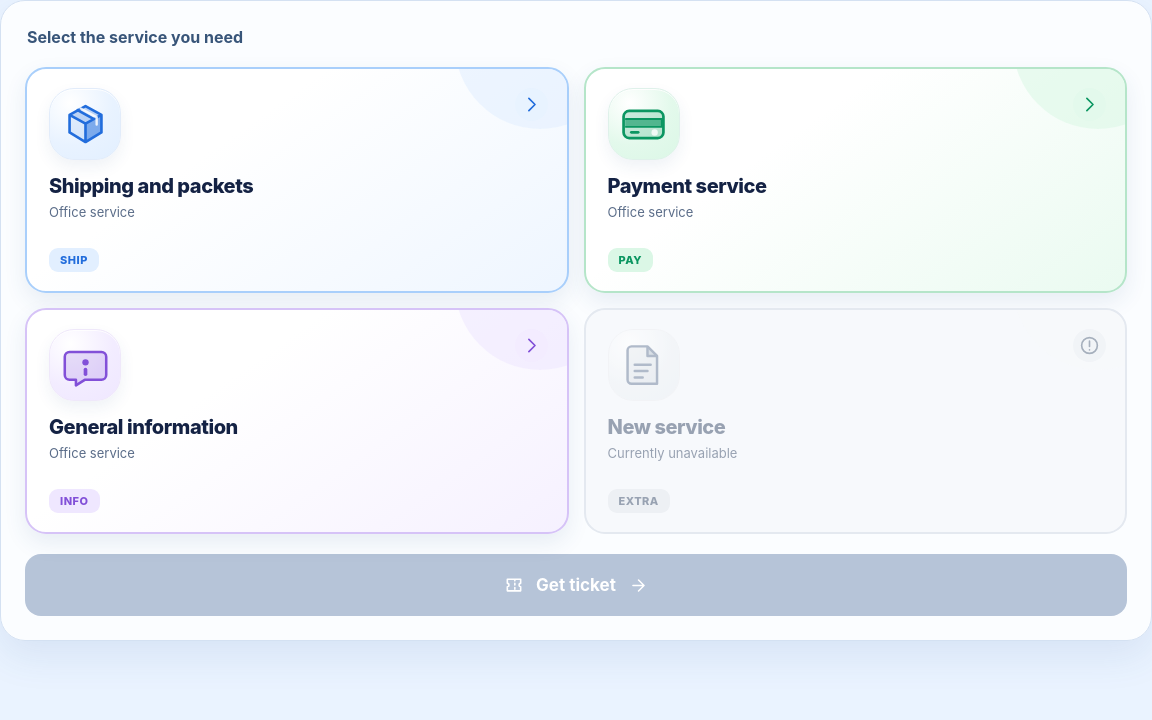
Scenario: ServiceSelector › selecting a service › marks the clicked card as selected and enables the button
Step 1. Click the radio button labelled "payment service Office service PAY" → (644, 124), box [584,67,1127,293]
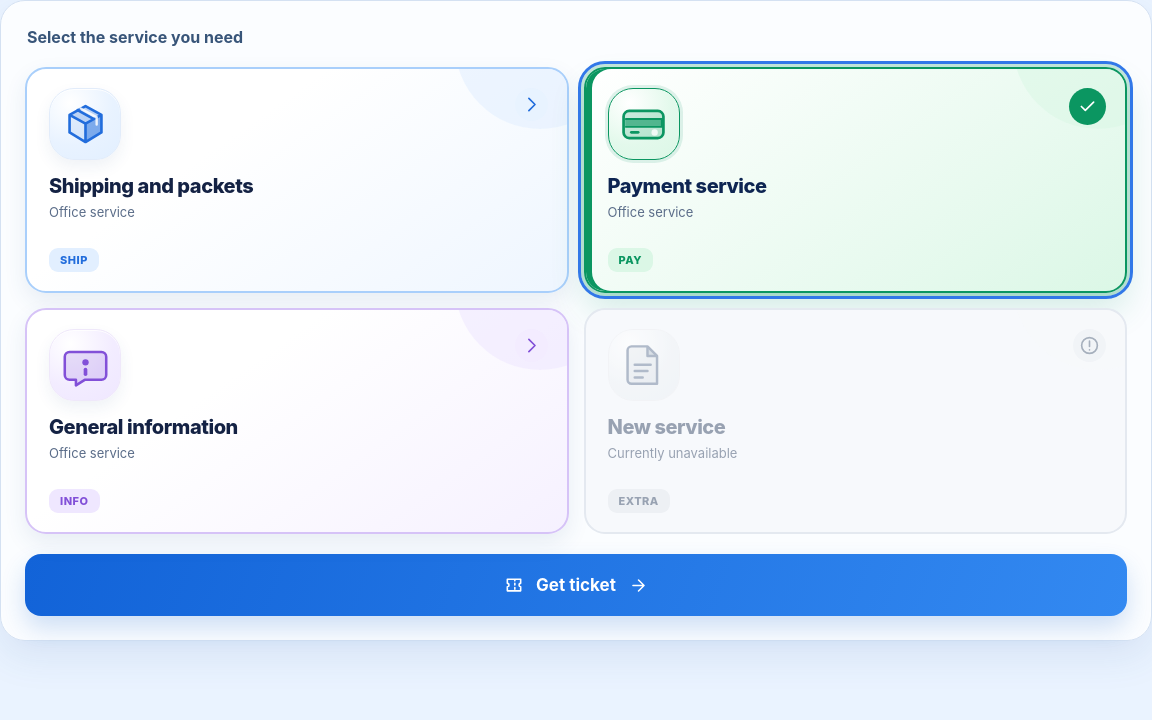
Now the button "Get ticket" is enabled, box [25,554,1127,616]
